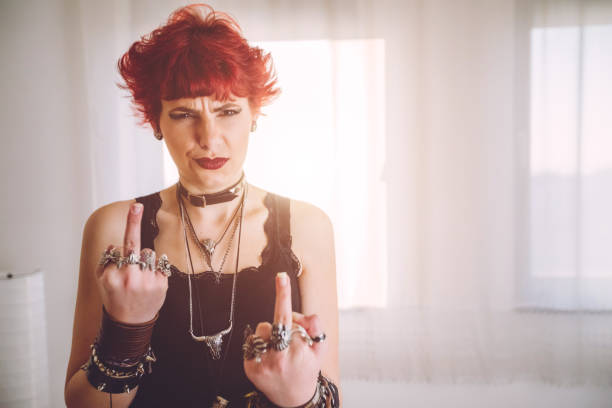insulting_gesture: (240, 265, 326, 404), (98, 205, 170, 332)
